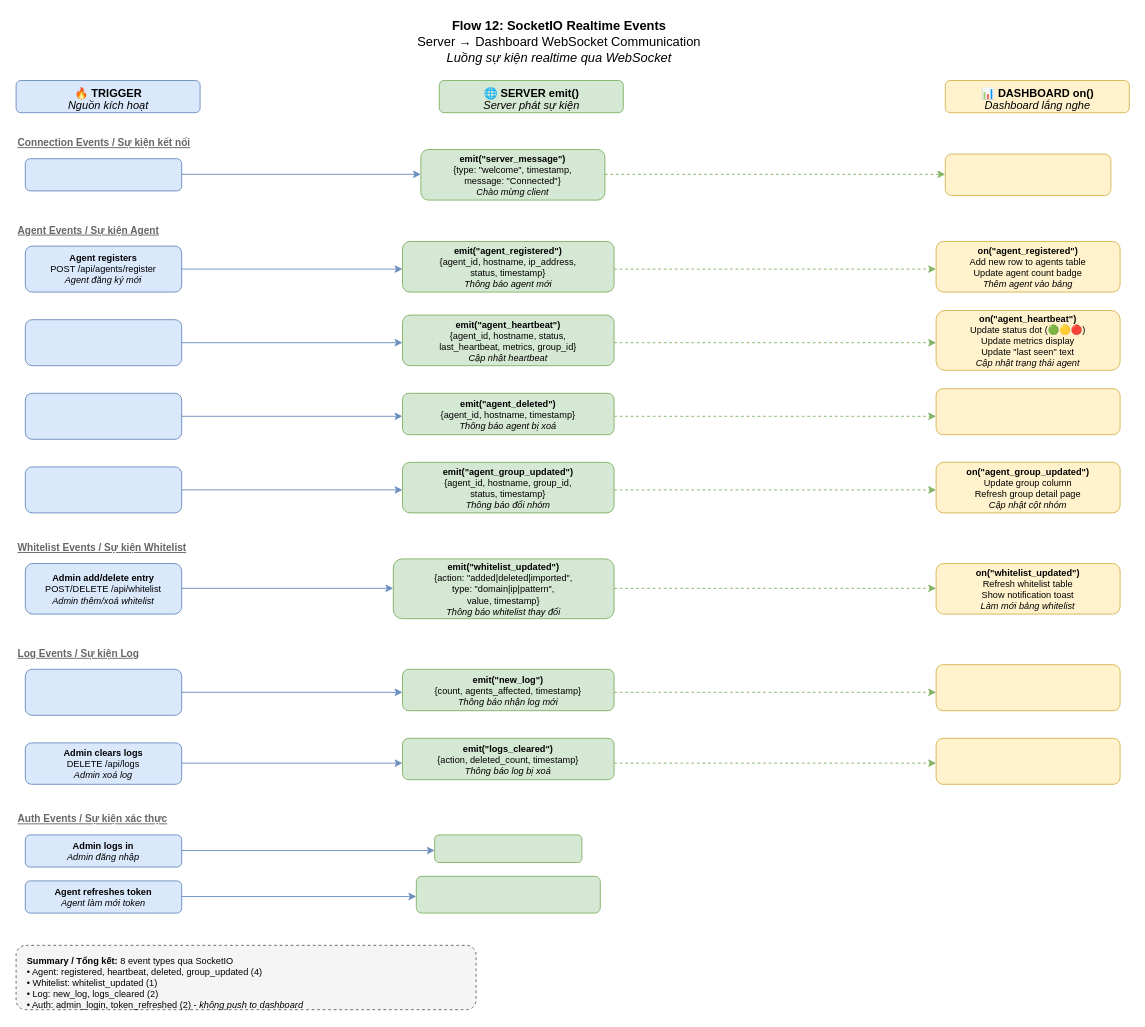
Some shapes in this 1145 by 1027 pixel diagram are drawn without their labels. Here are the shapes that lost their labels. From the top down, the box of each, then its label:
(24, 158, 182, 191): Dashboard opens page Mở trang Dashboard
(944, 153, 1111, 196): on("server_message") Show connection status Hiện trạng thái kết nối
(24, 319, 182, 366): Agent heartbeat POST /api/agents/heartbeat Agent gửi heartbeat
(24, 392, 182, 439): Admin deletes agent DELETE /api/agents/:id Admin xoá agent
(935, 388, 1120, 435): on("agent_deleted") Remove row from table Update count badge Xoá agent khỏi bảng
(24, 466, 182, 513): Admin changes group PUT /api/agents/:id/group Admin đổi nhóm agent
(24, 668, 182, 715): Agent submits logs POST /api/logs Agent gửi batch log
(935, 664, 1120, 711): on("new_log") Refresh log entries Update log count Làm mới trang logs
(935, 737, 1120, 784): on("logs_cleared") Clear log table Reset count Xoá bảng log
(434, 834, 582, 862): emit("admin_login")
(415, 875, 600, 913): emit("token_refreshed") {agent_id, rotated, timestamp}
